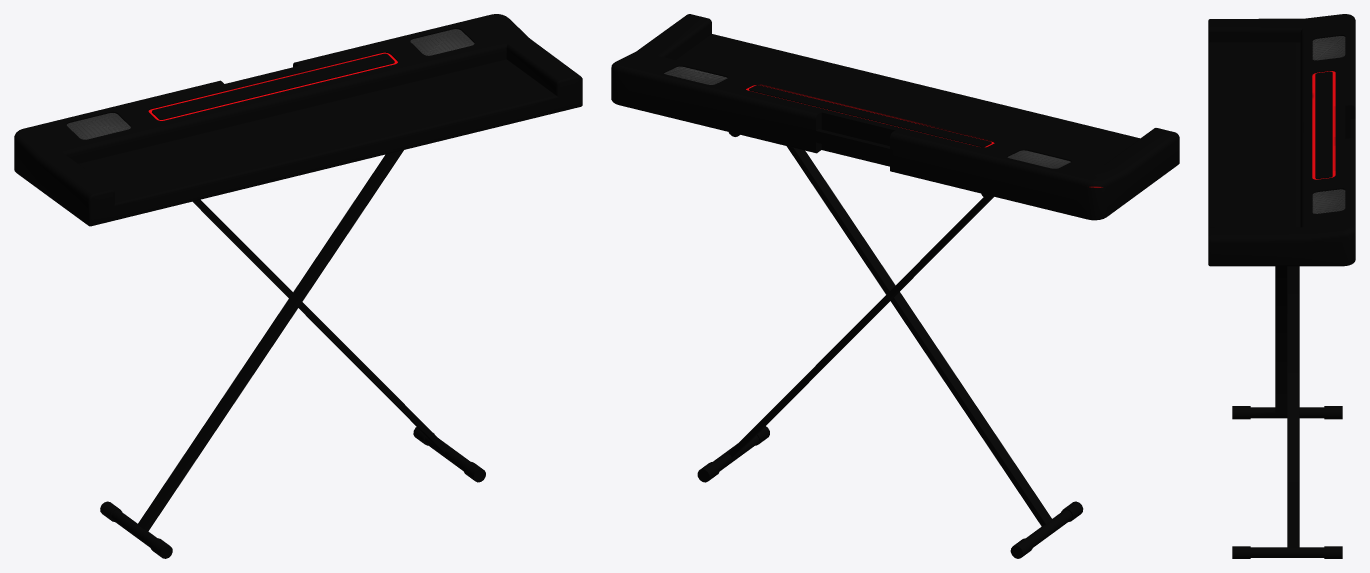
Rendered from keyboard.fbx.
The picture shows the model from 3 angles, left to right: view 1: azimuth 30°, elevation 25°; view 2: azimuth 150°, elevation 25°; view 3: azimuth 270°, elevation 25°; orthographic projection. The views are drawn at different scales.
Parts seen in each view (by area): view 1: Keyboard, StandPart2, StandPart1; view 2: Keyboard, StandPart2, StandPart1; view 3: Keyboard, StandPart1, StandPart2.
Boxes of the visible parts, left/top/right/bottom form: Keyboard: left=14, top=14, right=582, bottom=226; StandPart2: left=100, top=150, right=403, bottom=558; StandPart1: left=193, top=199, right=485, bottom=482; Keyboard: left=611, top=14, right=1179, bottom=220; StandPart2: left=728, top=132, right=1083, bottom=558; StandPart1: left=697, top=193, right=993, bottom=482; Keyboard: left=1208, top=14, right=1355, bottom=266; StandPart1: left=1232, top=266, right=1342, bottom=558; StandPart2: left=1232, top=266, right=1342, bottom=419.
Bounding box in the file's own units: 94.69 × 73.38 × 26.74.
